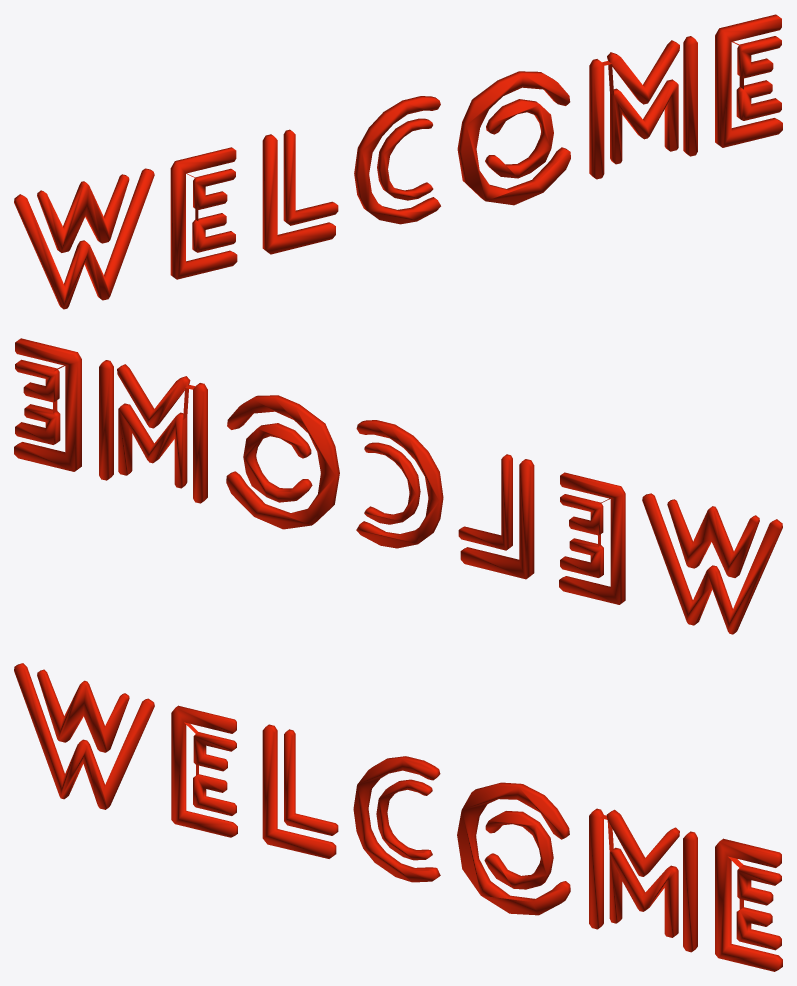
The model's file is Welcome Sign.fbx.
3 renders of one model, top to bottom at view 1: azimuth 30°, elevation 25°; view 2: azimuth 150°, elevation 25°; view 3: azimuth 330°, elevation 25°, orthographic.
Parts seen in each view (by area): view 1: M, W, O, E_2, E_1, C, L; view 2: M, W, O, E_2, E_1, C, L; view 3: M, W, O, E_2, E_1, C, L.
Part boxes in pixels (x1,y1,x2,y2): M: (589,36,697,179); W: (14,168,154,309); O: (457,71,570,205); E_2: (715,14,782,147); E_1: (170,147,237,279); C: (354,96,440,224); L: (262,129,338,254); M: (99,360,207,503); W: (642,493,782,634); O: (226,395,339,529); E_2: (14,338,81,471); E_1: (559,472,625,604); C: (356,420,443,548); L: (458,454,534,579); M: (589,808,697,952); W: (14,663,154,809); O: (457,782,570,915); E_2: (715,838,782,971); E_1: (171,705,237,837); C: (353,756,440,882); L: (262,724,338,858).
Size of the model in its own units: 345 by 55.49 by 3.3.
